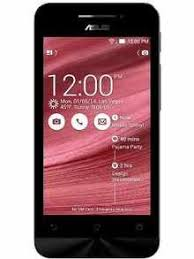asus: (27, 1, 166, 258)
